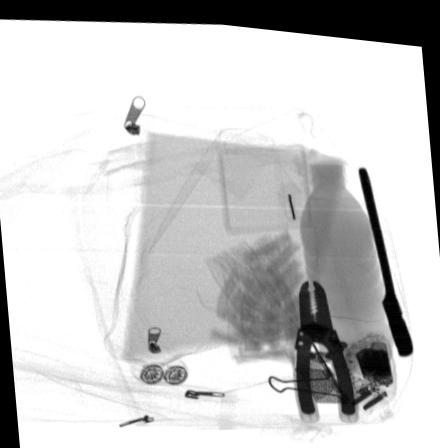Pliers: (292, 270, 360, 415)
Wrench: (355, 155, 414, 346)
